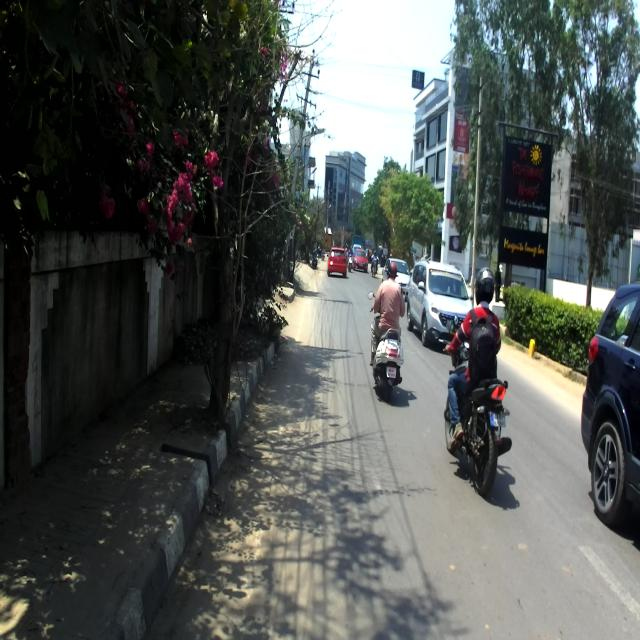motorcycle ahead at: (439, 370, 515, 499), (372, 326, 406, 404)
tree ahead at: (194, 206, 243, 422)
